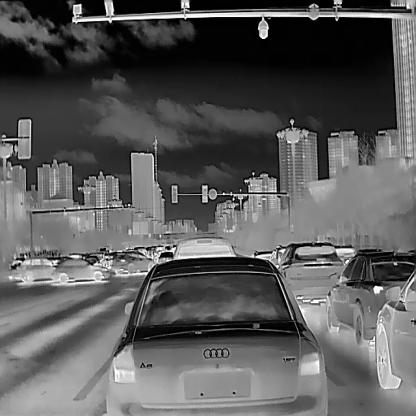car: (105, 256, 326, 415), (325, 247, 415, 348), (374, 266, 415, 388), (274, 241, 342, 294), (172, 235, 235, 259), (54, 256, 109, 281), (15, 255, 60, 282), (110, 249, 154, 273)
